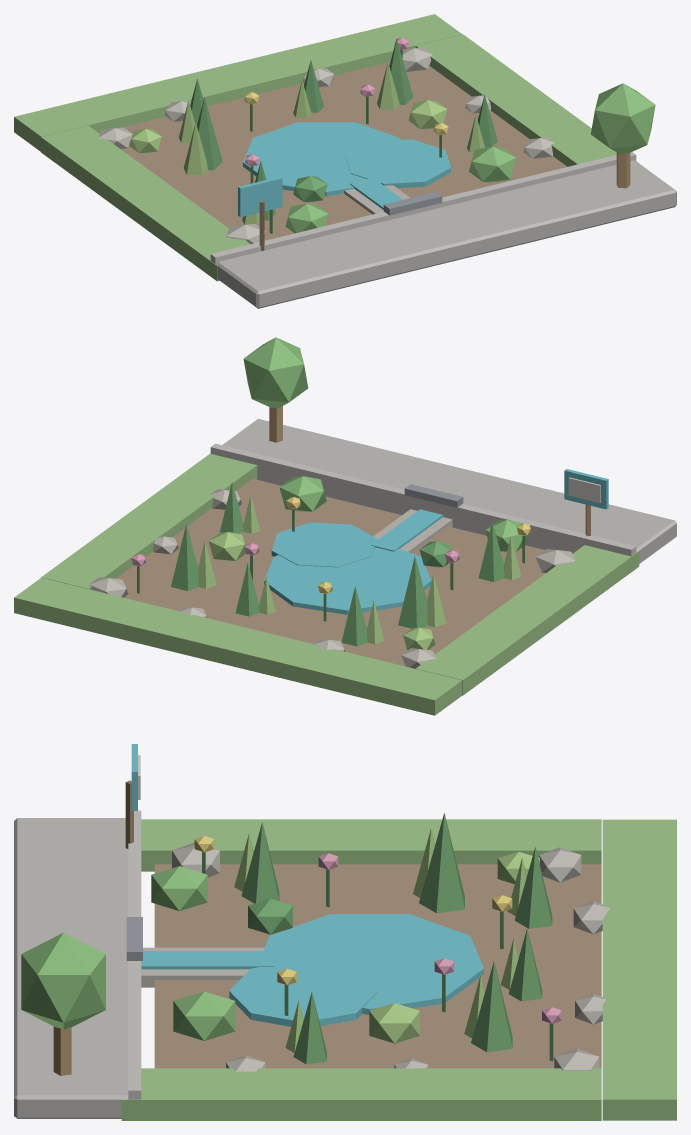
Rendered from agua__jardim_chuva.glb.
3 views of the same model, one above another, from view 1: azimuth 30°, elevation 25°; view 2: azimuth 150°, elevation 25°; view 3: azimuth 270°, elevation 25° (orthographic). The views are drawn at different scales.
Parts seen in each view (by area): view 1: agua__jardim_chuva; view 2: agua__jardim_chuva; view 3: agua__jardim_chuva.
Part boxes in pixels (<box>): agua__jardim_chuva: <box>14,14,676,308</box>; agua__jardim_chuva: <box>14,337,676,715</box>; agua__jardim_chuva: <box>14,744,676,1120</box>.
Size of the model in its own units: 4.01 by 1.1 by 4.01.
